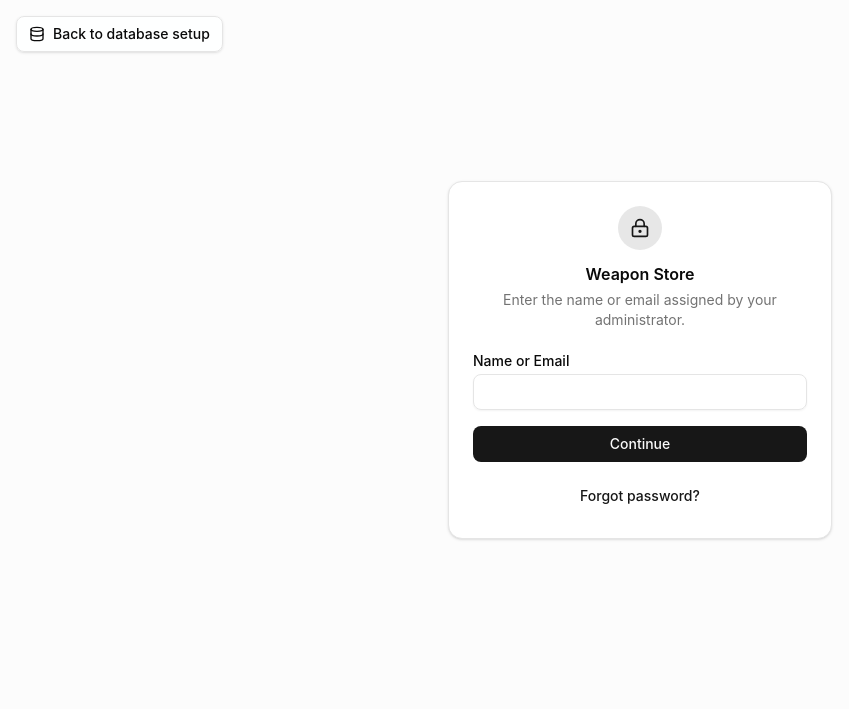
Test: AuthScreen › requests employee recovery and submits the administrator-approved code
Later steps or results of the test are not shown.
Click the button "Forgot password?" at coordinates (640, 496), box [473,478,807,514]
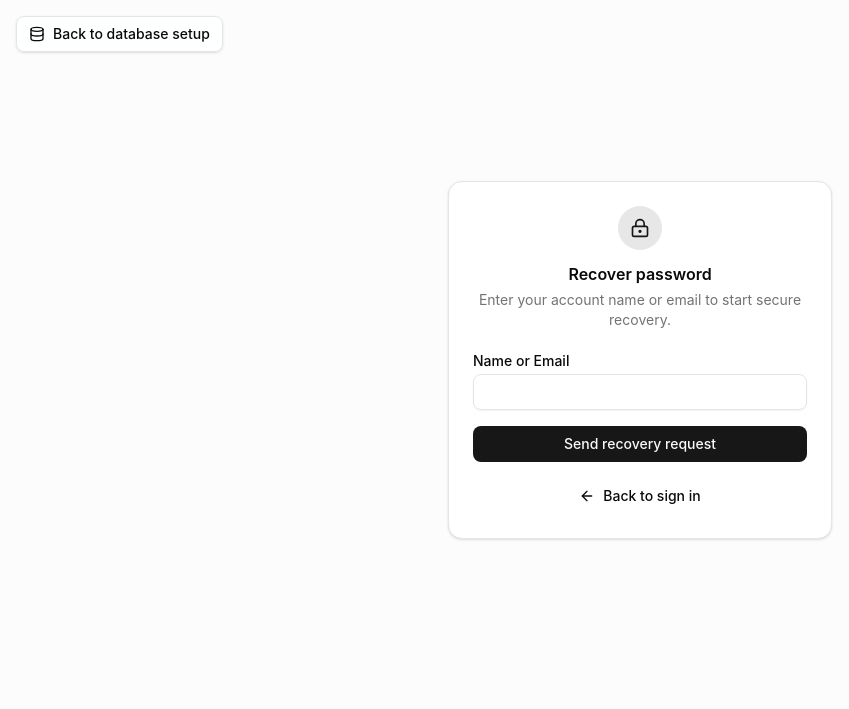
Type "employee" into the field labelled "Name or Email" at coordinates (640, 392), box [473,374,807,410]
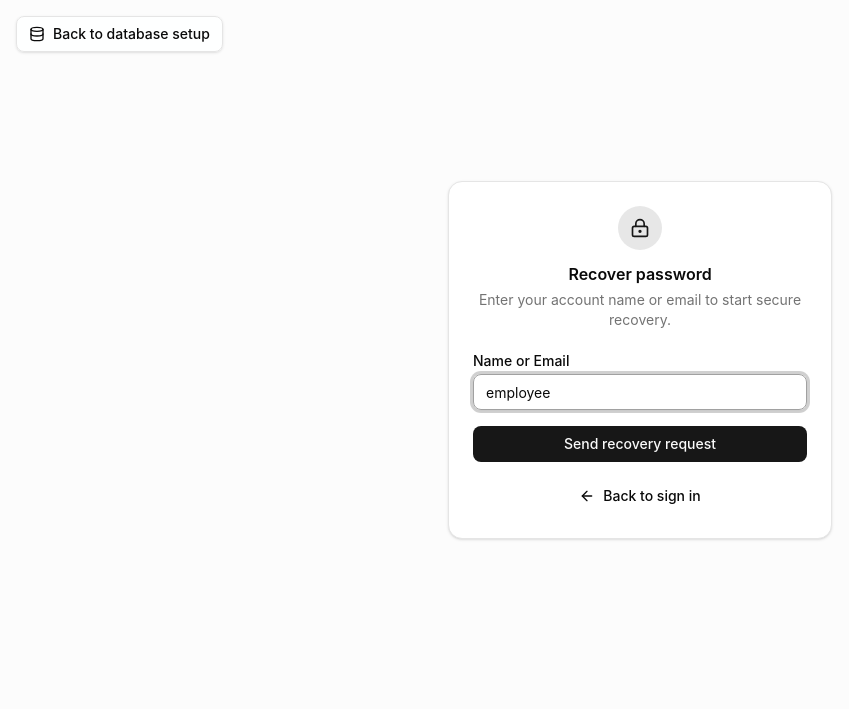
Click the button "Send recovery request" at coordinates (640, 444), box [473,426,807,462]
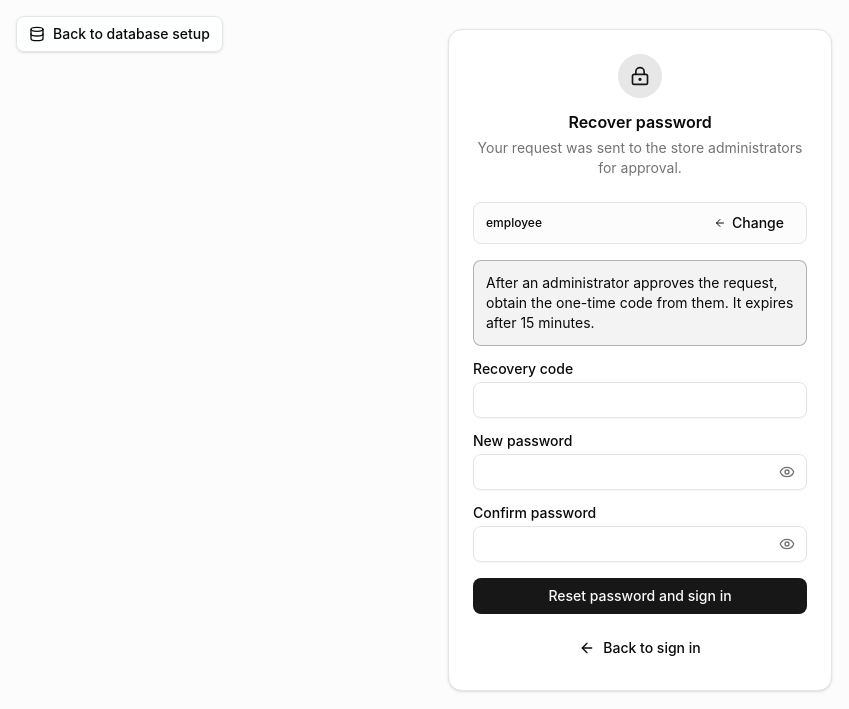
Expected: the text "sent to the store administrators" is shown, [478,139,802,176]
